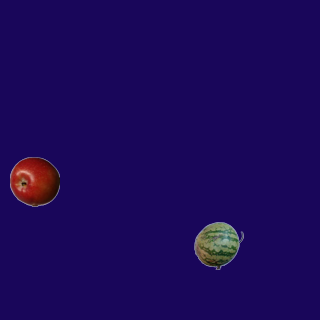Apple Braeburn: (9, 156, 59, 206)
Watermelon: (193, 220, 243, 270)
